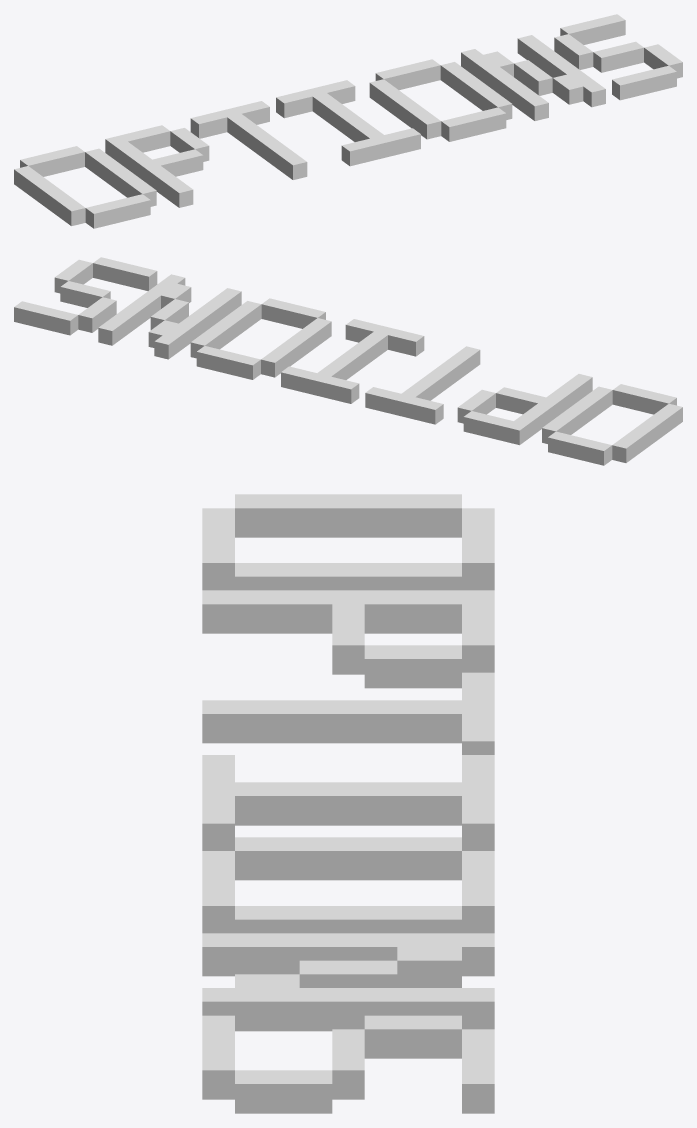
The model's file is Options.obj.
The picture shows the model from 3 angles, top to bottom: view 1: azimuth 30°, elevation 25°; view 2: azimuth 150°, elevation 25°; view 3: azimuth 270°, elevation 25°; orthographic projection. The views are drawn at different scales.
Size of the model in its own units: 4.3 by 0.1 by 0.9.
